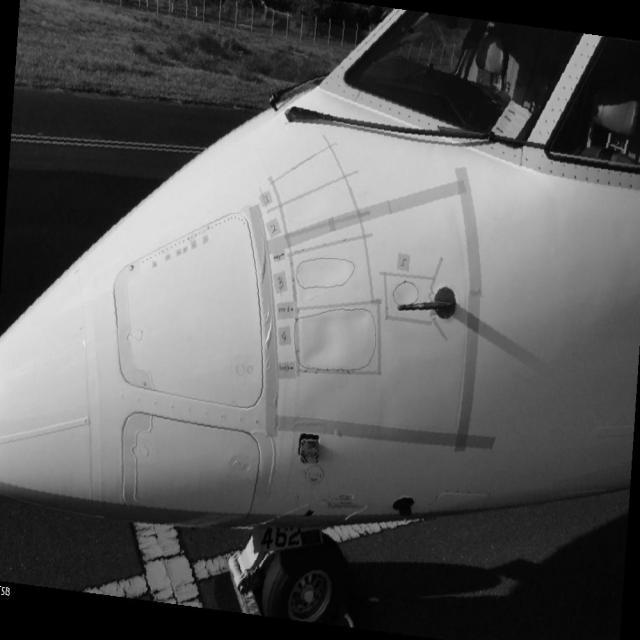dent: (304, 310, 370, 372), (395, 285, 418, 307)
